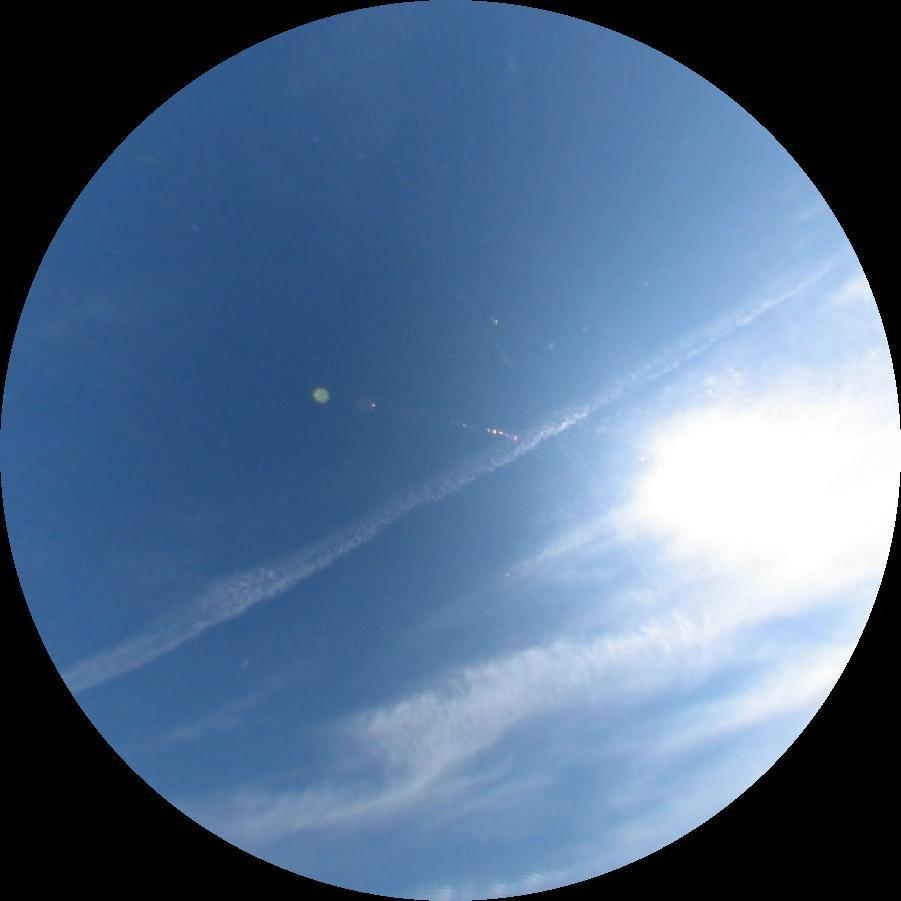contrail veryold: (58, 248, 871, 704)
sun: (664, 408, 899, 550)
unknow: (455, 286, 684, 626)
